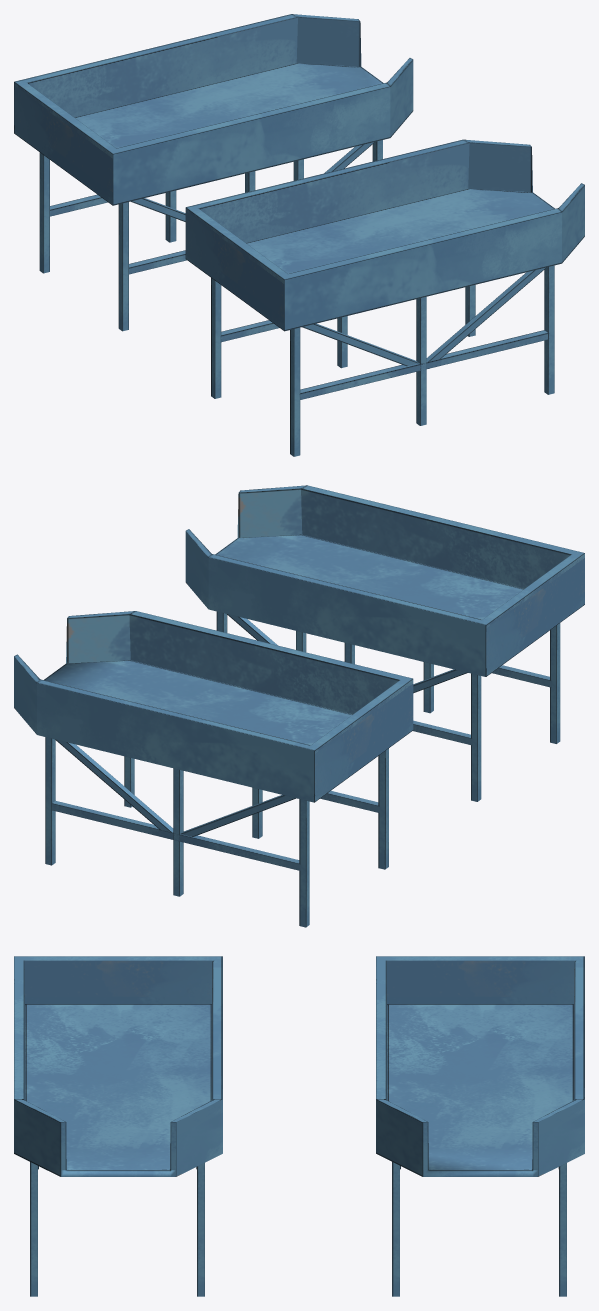
The model's file is sea01.fbx.
3 views of the same model, one above another, from view 1: azimuth 30°, elevation 25°; view 2: azimuth 150°, elevation 25°; view 3: azimuth 270°, elevation 25° (orthographic). The views are drawn at different scales.
Parts seen in each view (by area): view 1: Cube.020, Cube.033, Cube.045, Cube.037, Cube.001, Cube.046, Cube.008, Cube.006, Cube.002, Cube.004; view 2: Cube.020, Cube.033, Cube.006, Cube.001, Cube.004, Cube.045; view 3: Cube.020, Cube.033, Cube.046, Cube.003.
Part boxes in pixels (x1=…): Cube.020: x1=14, y1=14, x2=413, y2=331; Cube.033: x1=185, y1=139, x2=584, y2=331; Cube.045: x1=299, y1=330, x2=550, y2=399; Cube.037: x1=426, y1=267, x2=546, y2=361; Cube.001: x1=290, y1=327, x2=300, y2=456; Cube.046: x1=544, y1=265, x2=554, y2=394; Cube.008: x1=416, y1=296, x2=426, y2=425; Cube.006: x1=211, y1=278, x2=221, y2=398; Cube.002: x1=302, y1=323, x2=418, y2=366; Cube.004: x1=220, y1=320, x2=279, y2=342; Cube.020: x1=14, y1=611, x2=413, y2=927; Cube.033: x1=185, y1=485, x2=584, y2=676; Cube.006: x1=471, y1=673, x2=481, y2=801; Cube.001: x1=550, y1=623, x2=560, y2=743; Cube.004: x1=413, y1=720, x2=472, y2=745; Cube.045: x1=492, y1=665, x2=551, y2=687; Cube.020: x1=376, y1=956, x2=584, y2=1296; Cube.033: x1=14, y1=956, x2=222, y2=1176; Cube.046: x1=30, y1=1162, x2=37, y2=1296; Cube.003: x1=197, y1=1163, x2=204, y2=1296.
Size of the model in its own units: 117 by 64.53 by 169.
4 materials, 4 textured.
